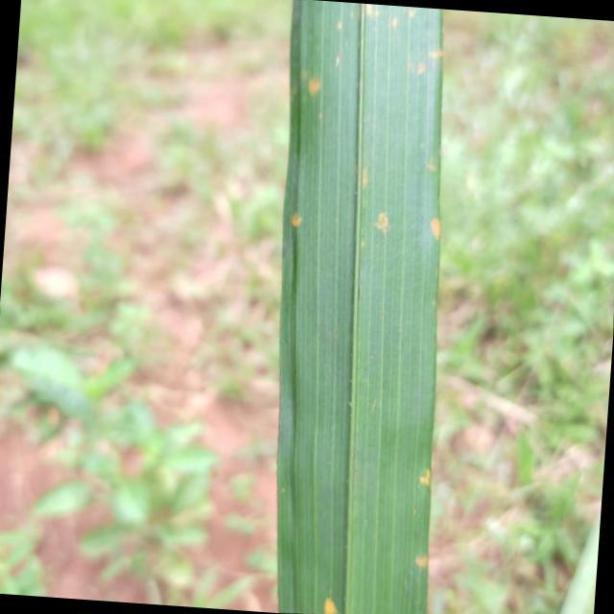Kalium: (278, 1, 439, 614)
